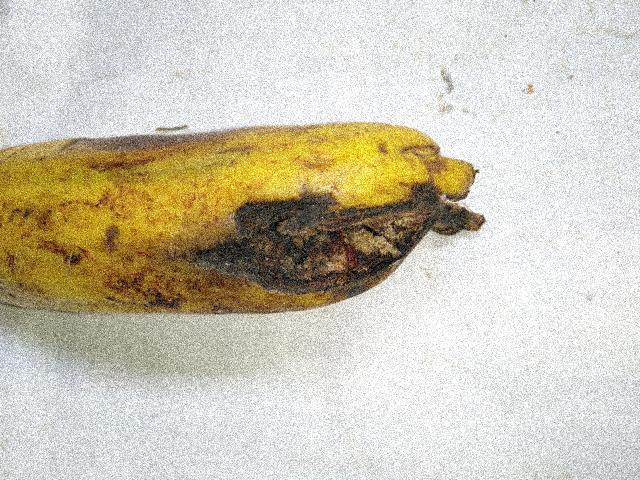ripe: (0, 114, 216, 330)
rotten: (187, 90, 497, 329)
